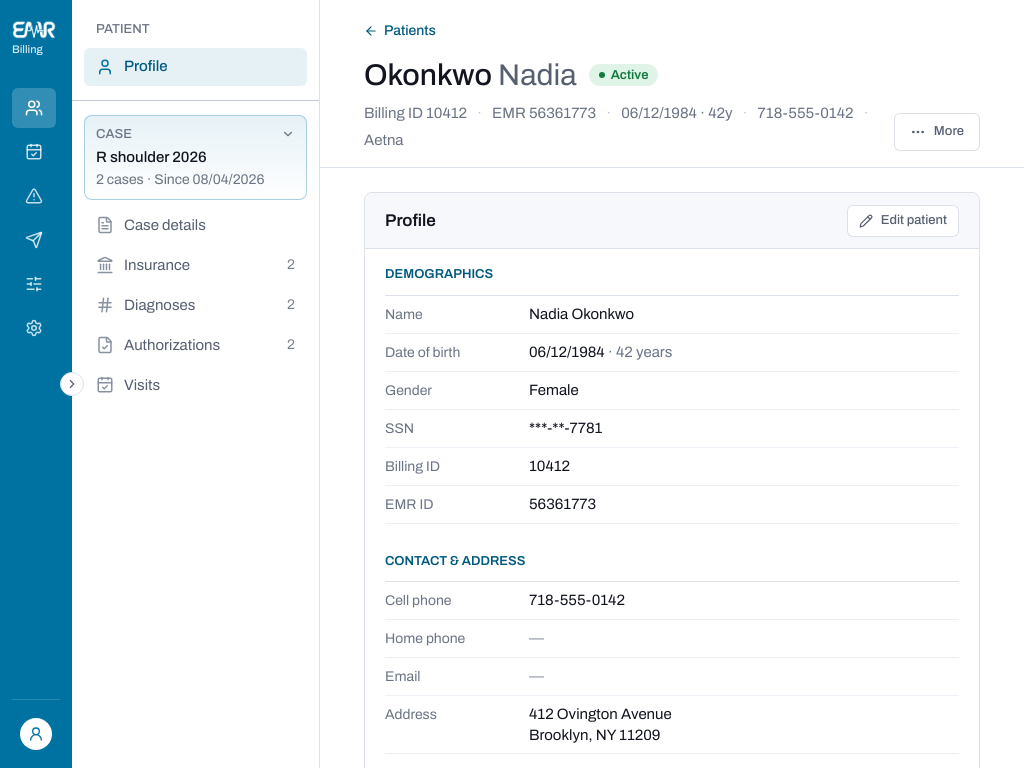
it: the patient chart — header and Profile › edits the patient on the server — an empty SSN is not sent, so the one on file stays
# "Edit patient" heads the Profile card: it edits all of its groups.
Click the button "Edit patient" at (903, 220), box top-left (847, 204), bottom-right (959, 236)
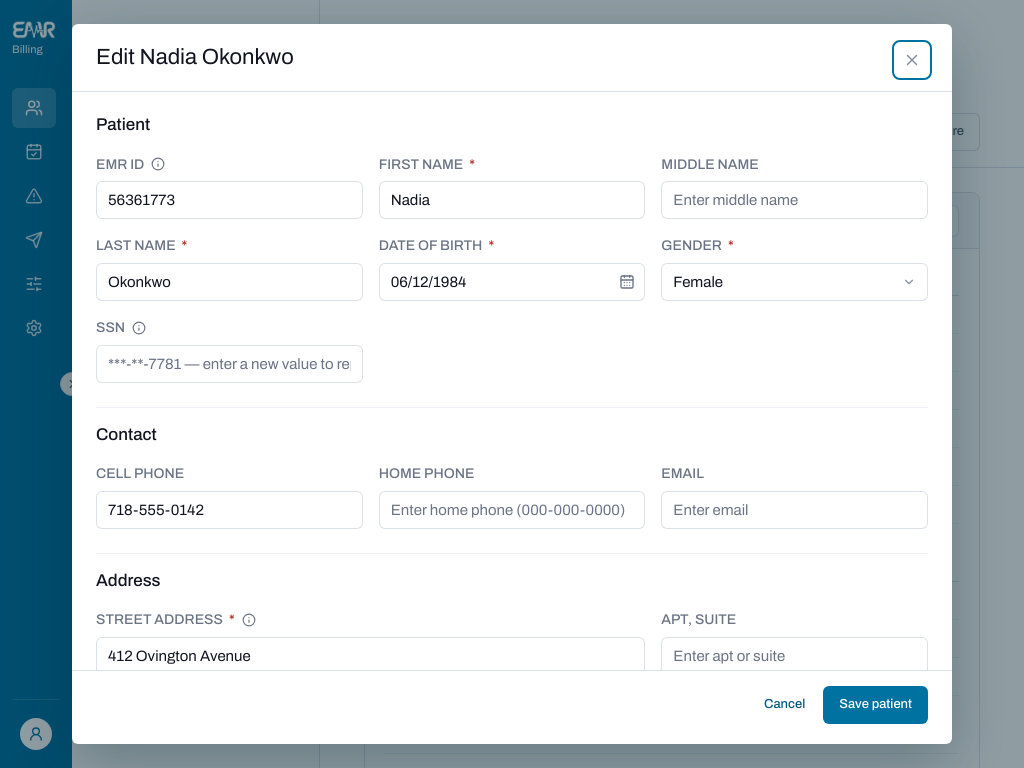
Check: the field labelled "SSN" is empty, box top-left (108, 344), bottom-right (351, 382)
Replace the text in the field labelled "Cell phone" with "718-555-0199" at (229, 510), box top-left (108, 490), bottom-right (351, 528)
(page scrolled)
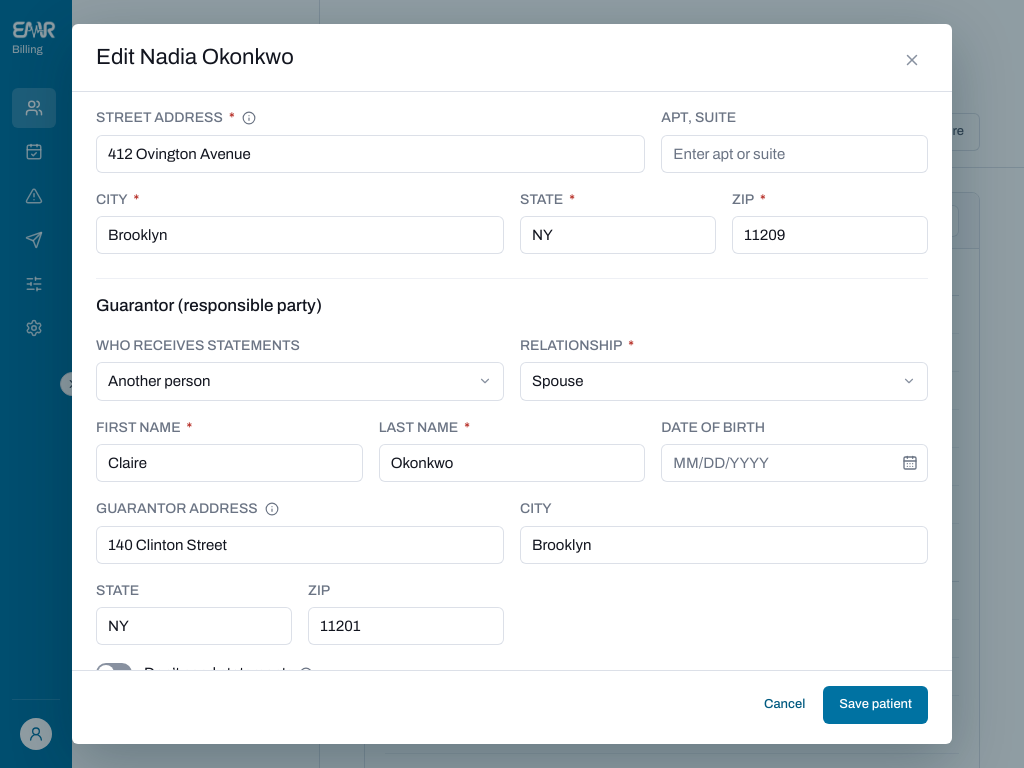
# The patient receives the statements from now on: the guarantor goes.
Click the dropdown named "who receives statements" at (300, 381), box top-left (96, 362), bottom-right (504, 400)
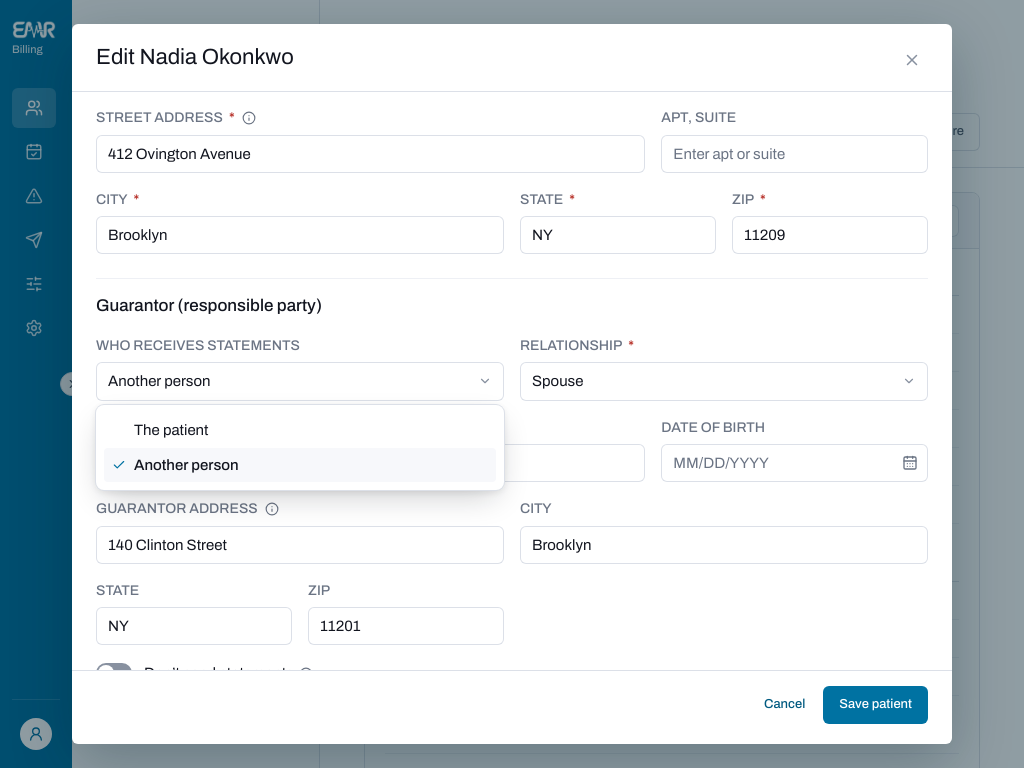
Click the option "The patient" at (171, 430), box top-left (134, 422), bottom-right (208, 438)
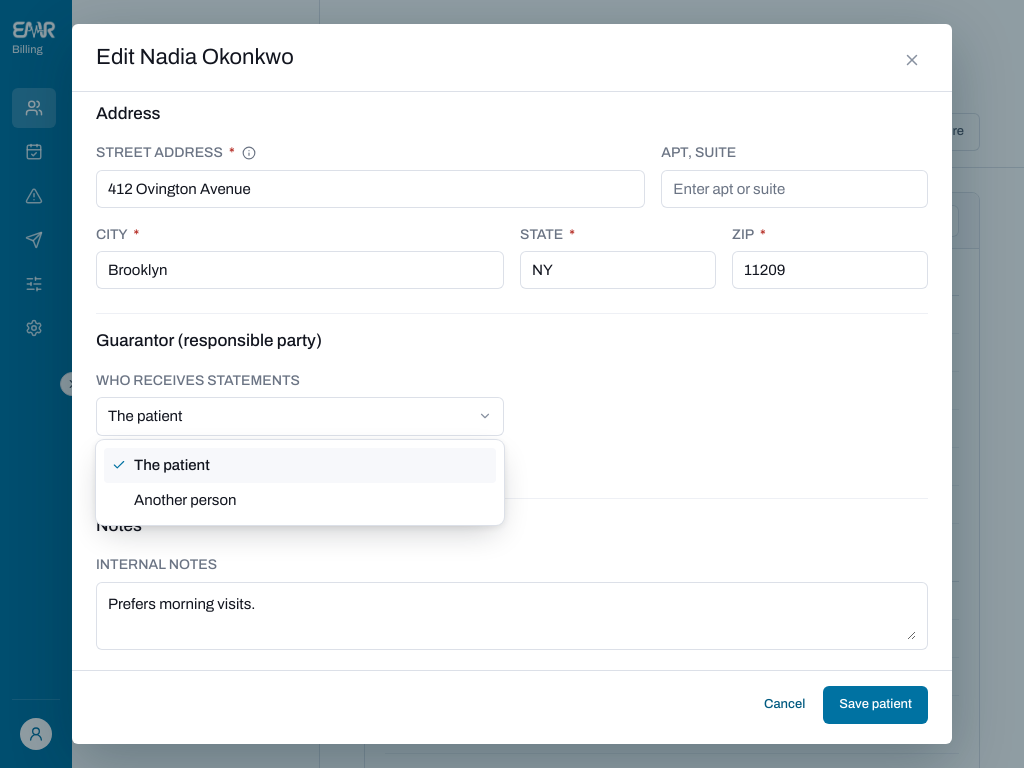
Click the button "Save patient" at (876, 705), box top-left (823, 686), bottom-right (928, 724)
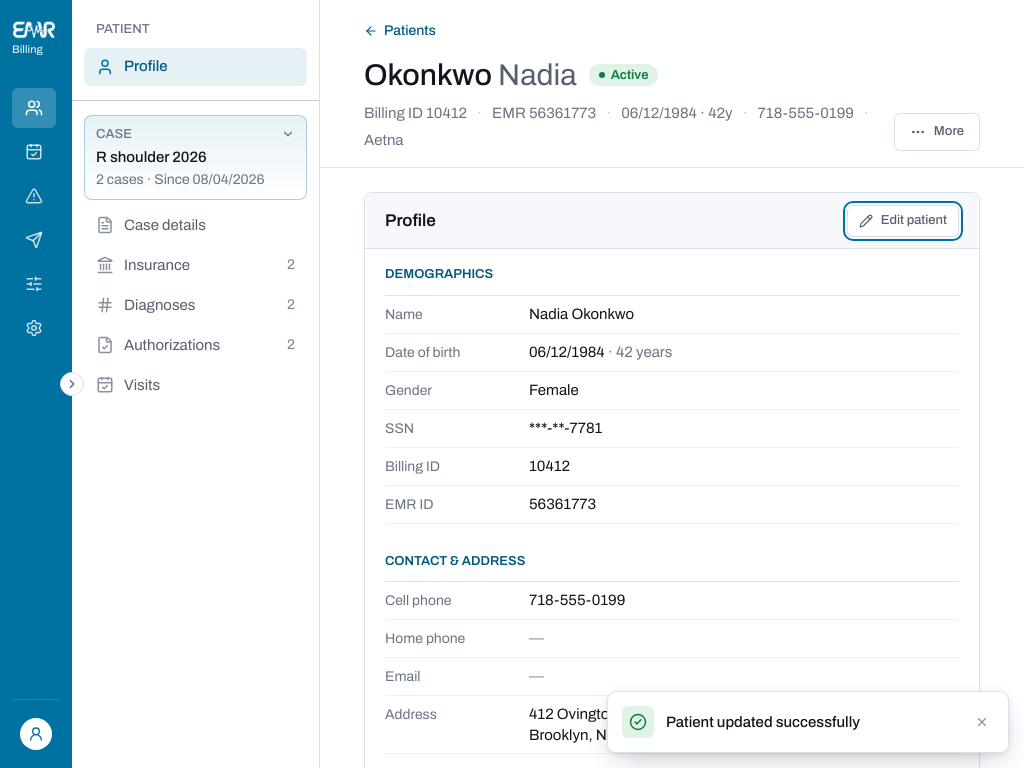
Check: the text "***-**-7781" is shown, box top-left (529, 420), bottom-right (602, 436)
Check: the dialog is gone
Check: the text "718-555-0199" next to "Cell phone" is shown, box top-left (529, 592), bottom-right (625, 608)
